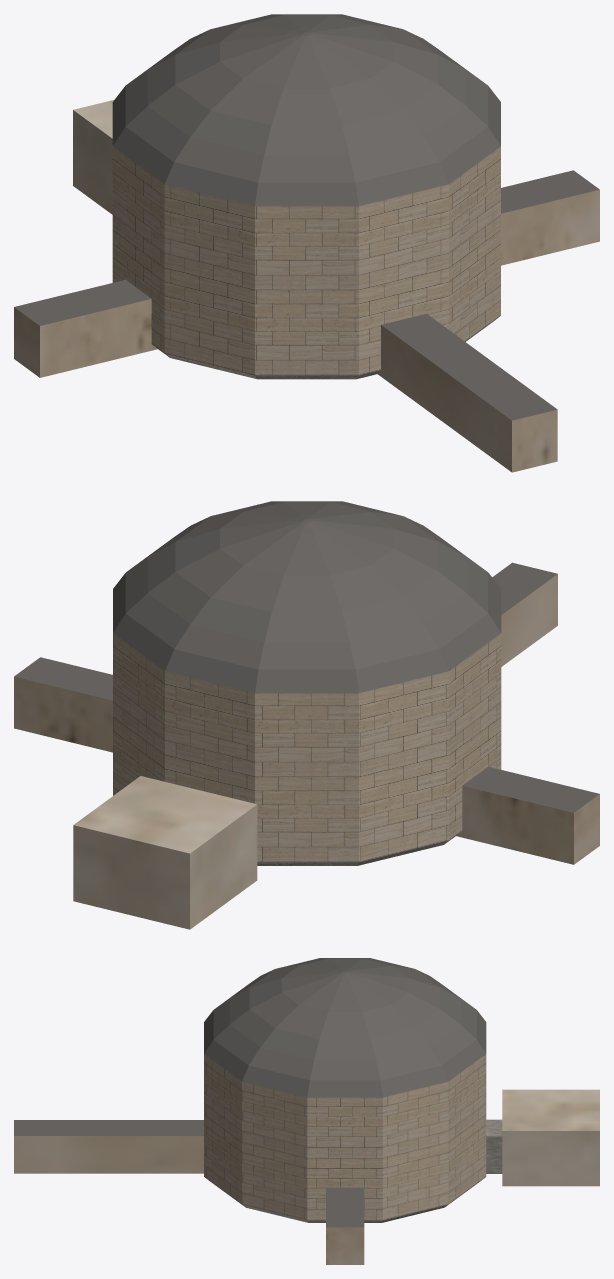
The model's file is Mortal Combat.fbx.
The picture shows the model from 3 angles, top to bottom: view 1: azimuth 30°, elevation 25°; view 2: azimuth 150°, elevation 25°; view 3: azimuth 270°, elevation 25°; orthographic projection. The views are drawn at different scales.
Parts seen in each view (by area): view 1: Mortal Combat; view 2: Mortal Combat; view 3: Mortal Combat.
Boxes of the visible parts, x1=… form: Mortal Combat: x1=14, y1=14, x2=599, y2=472; Mortal Combat: x1=14, y1=501, x2=599, y2=929; Mortal Combat: x1=14, y1=958, x2=599, y2=1264.
Size of the model in its own units: 2392 by 1092 by 2986.
